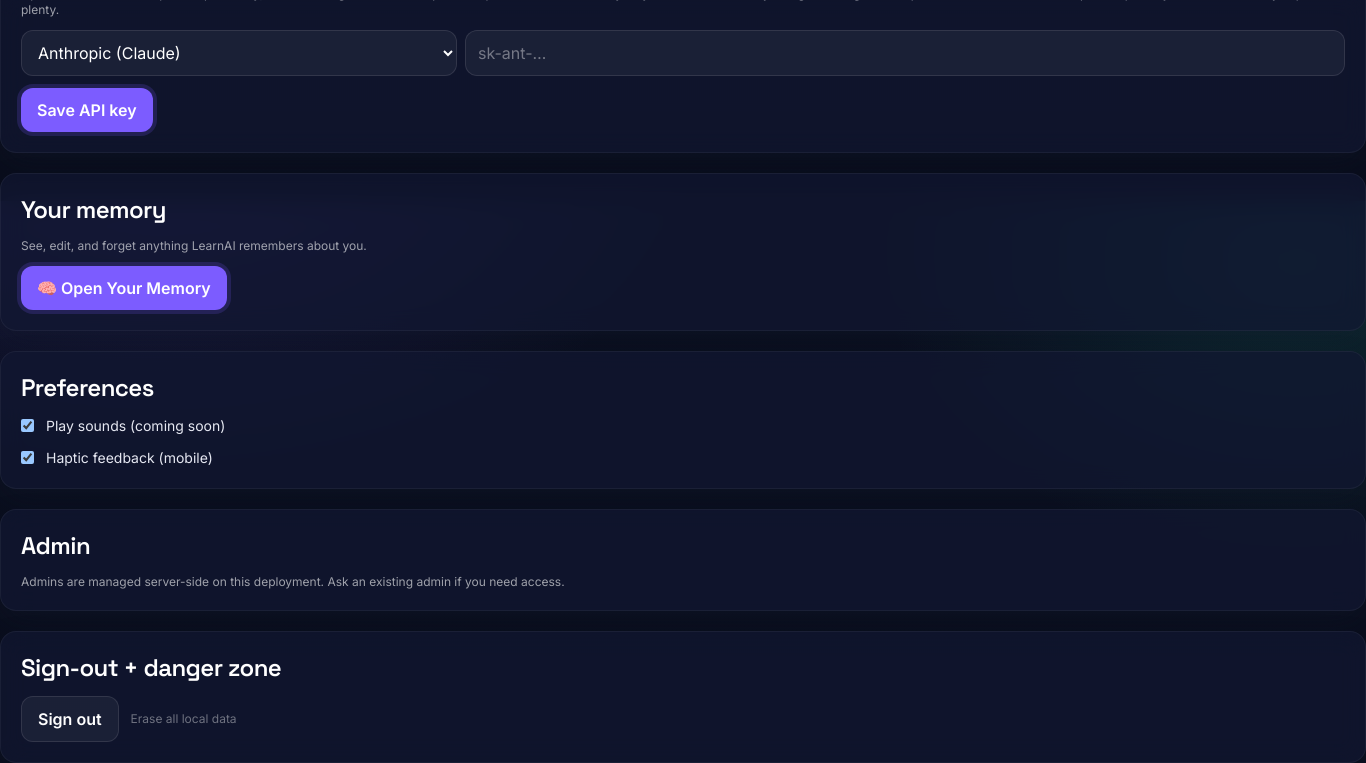
Test: Settings — two-click erase + sign-out navigates home › erase button is subtle by default; first click shows 'click again to erase'
This screenshot has width=1366, height=763.
(page scrolled)
Click the button "Erase all local data" at [184, 718], box [131, 710, 237, 726]
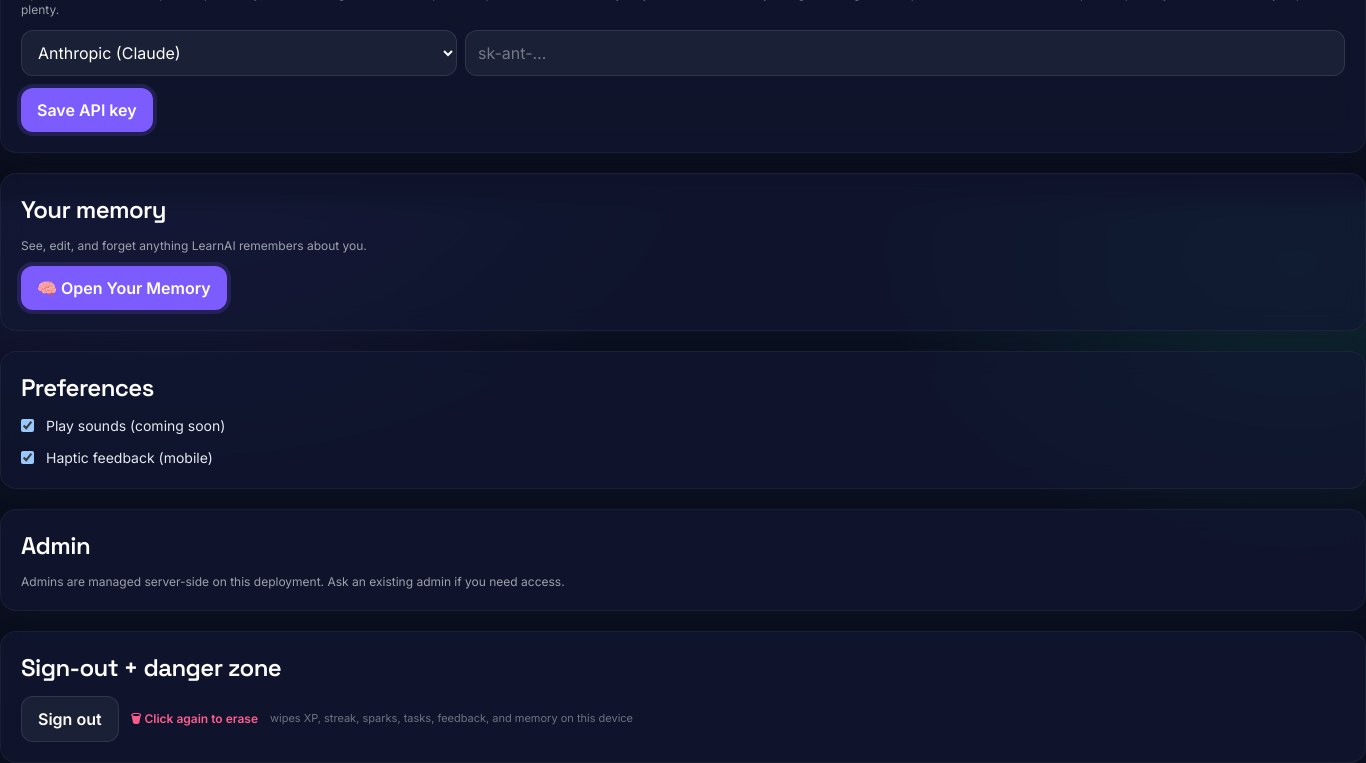
Result: the button "🗑 Click again to erase" is shown at [131, 710, 258, 726]
